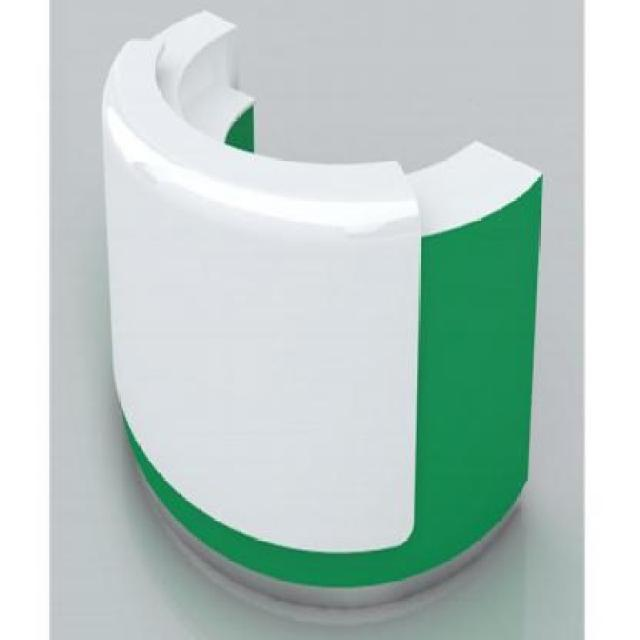frontdesk: (80, 4, 554, 620)
